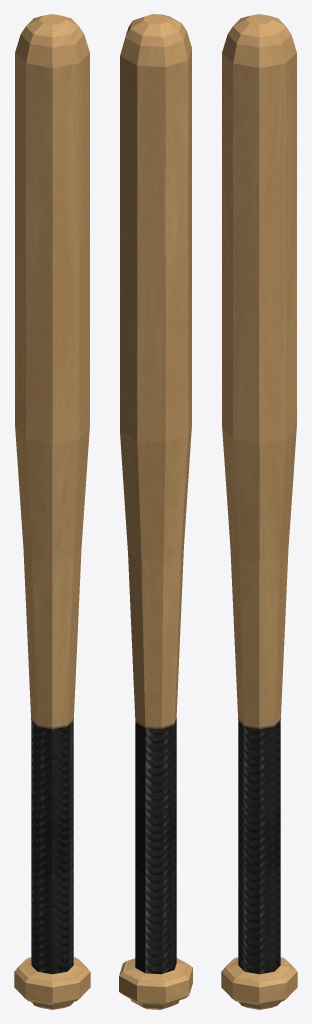
File: bat.glb
3 views of the same model, side by side, from view 1: azimuth 90°, elevation 25°; view 2: azimuth 150°, elevation 25°; view 3: azimuth 270°, elevation 25° (orthographic).
Visible parts, largest first — view 1: prop; view 2: prop; view 3: prop.
Part boxes in pixels (x1,y1,x2,y2): prop: [14, 14, 90, 1009]; prop: [119, 14, 192, 1009]; prop: [221, 14, 297, 1009].
Bounding box in the file's own units: 0.1941 × 2.76 × 0.1941.
1 material, 1 textured.
